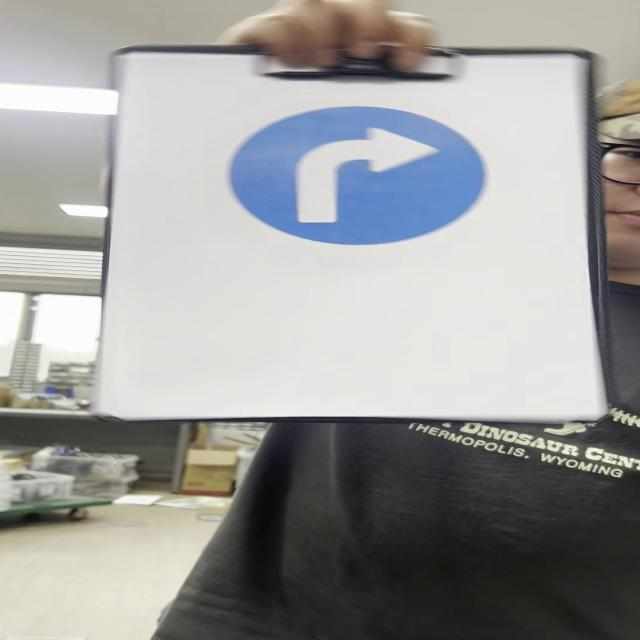right: (228, 106, 490, 246)
